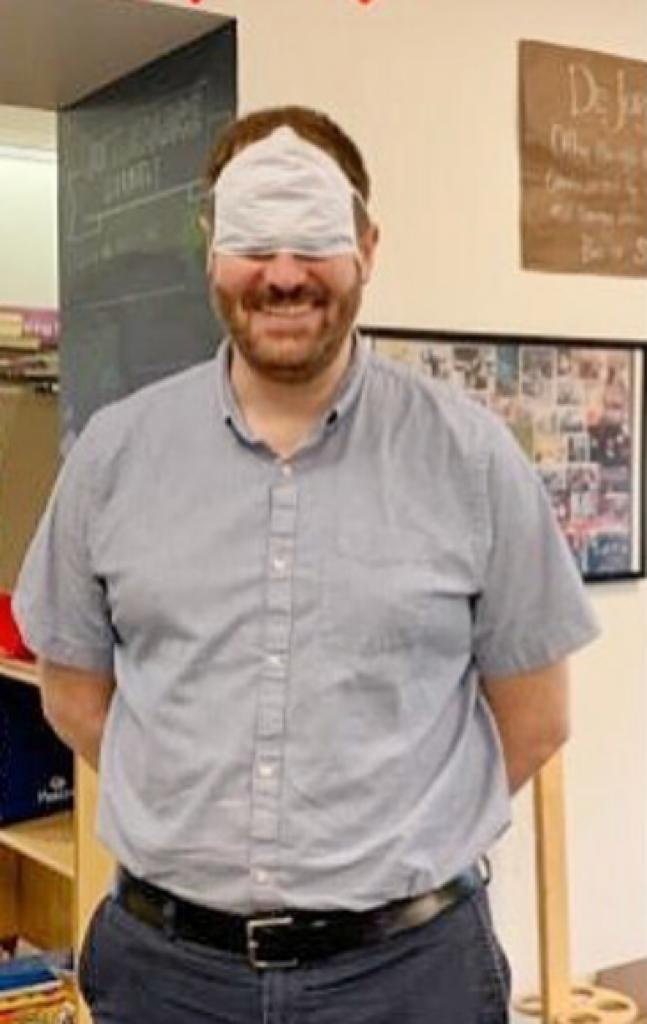mouth: (252, 299, 316, 323)
nose: (262, 269, 304, 290)
